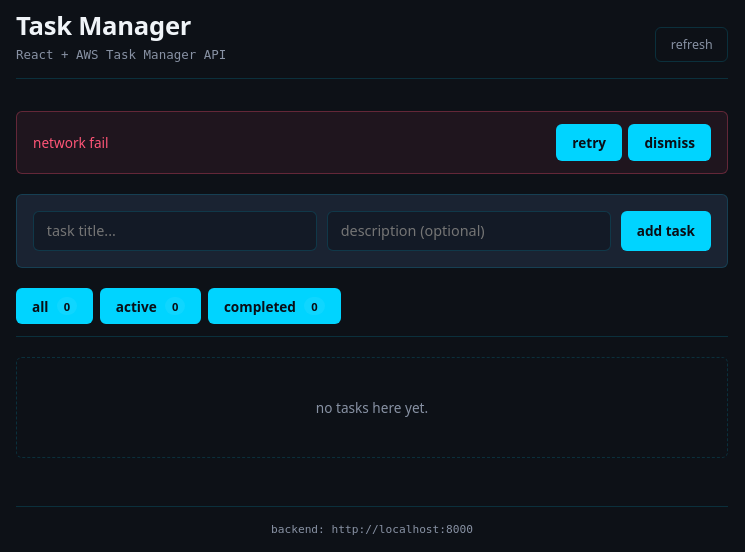
Test: App: error states › retries fetching when the retry button is clicked
Expected: the message "network fail retry dismiss" is shown, top-left (16, 111), bottom-right (728, 174)
Click the button "retry" at (589, 142), box top-left (556, 124), bottom-right (622, 161)
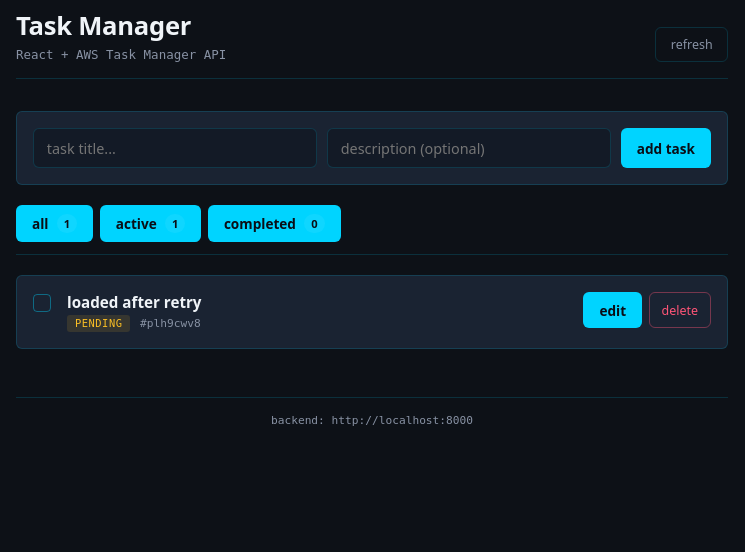
Expected: the text "loaded after retry" is shown, top-left (67, 292), bottom-right (202, 312)
